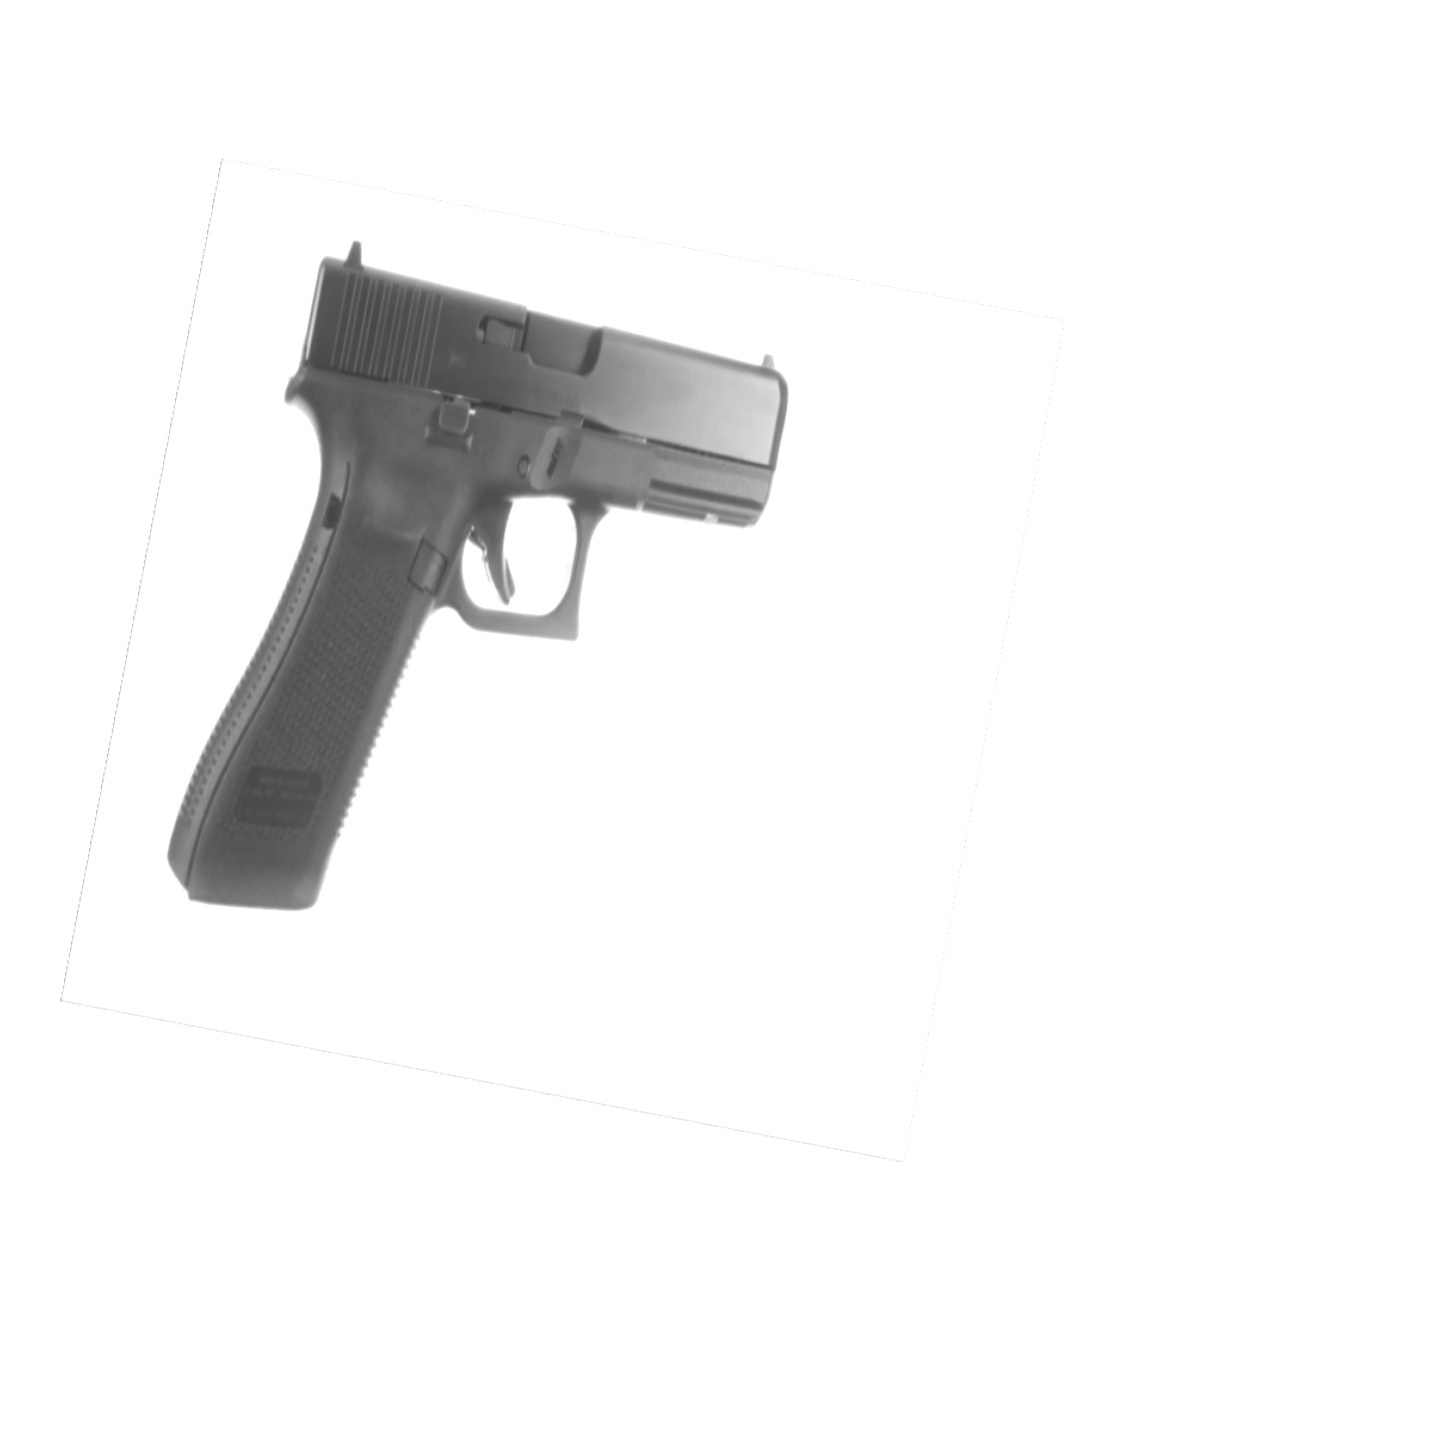gun: (167, 242, 790, 911)
